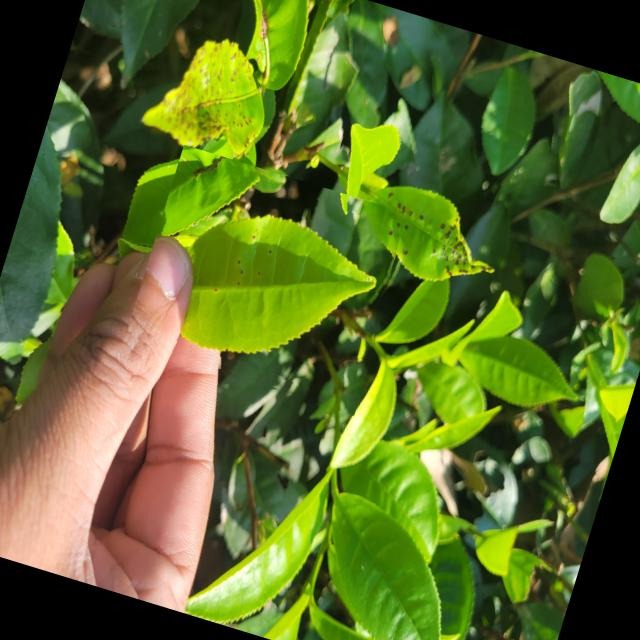Catagory A 1-2 days: (120, 144, 414, 416)
